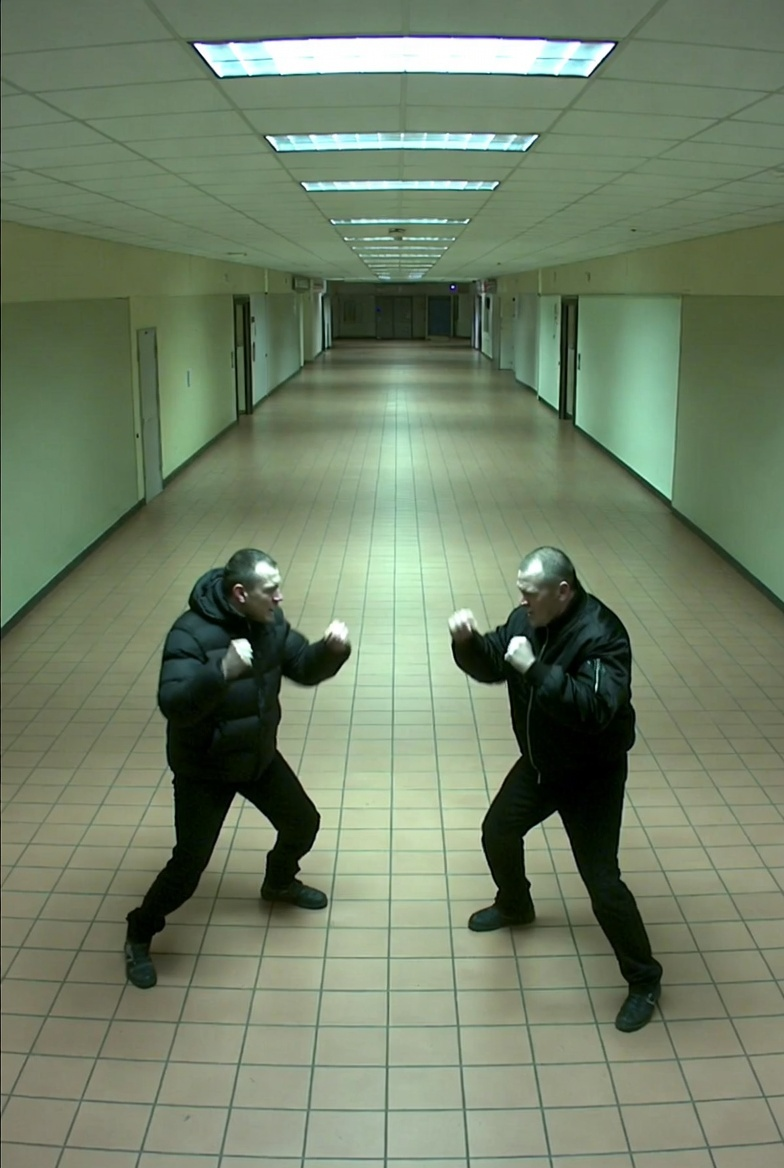Assault: (121, 548, 353, 994)
Fighting: (449, 544, 666, 1034)
